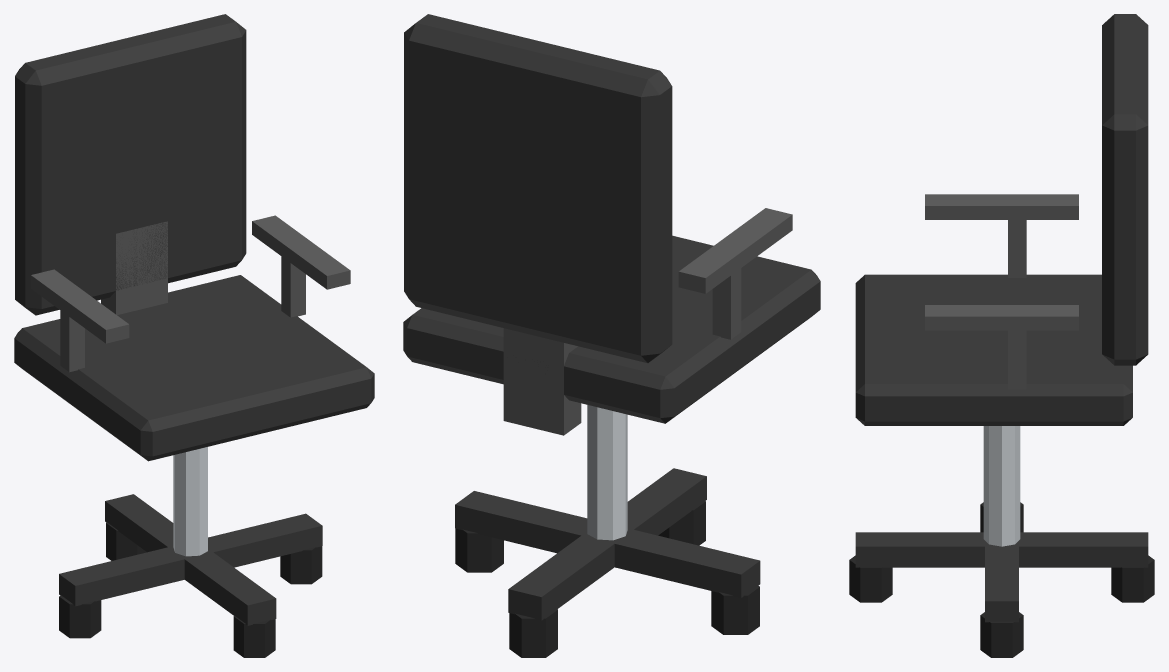
File: FUR_OfficeChair_Frac.fbx
3 views of the same model, side by side, from view 1: azimuth 30°, elevation 25°; view 2: azimuth 150°, elevation 25°; view 3: azimuth 270°, elevation 25° (orthographic). The views are drawn at different scales.
Visible parts, largest first — view 1: FUR_OfficeChair_Frac_1, FUR_OfficeChair_Frac_2, FUR_OfficeChair_Frac_4, FUR_OfficeChair_Frac_3; view 2: FUR_OfficeChair_Frac_1, FUR_OfficeChair_Frac_2, FUR_OfficeChair_Frac_3, FUR_OfficeChair_Frac_4; view 3: FUR_OfficeChair_Frac_1, FUR_OfficeChair_Frac_4, FUR_OfficeChair_Frac_3, FUR_OfficeChair_Frac_2.
Part boxes in pixels (<box>): FUR_OfficeChair_Frac_1: <box>31,14,350,348</box>; FUR_OfficeChair_Frac_2: <box>14,61,234,461</box>; FUR_OfficeChair_Frac_4: <box>161,324,374,584</box>; FUR_OfficeChair_Frac_3: <box>59,439,276,657</box>; FUR_OfficeChair_Frac_1: <box>403,14,655,427</box>; FUR_OfficeChair_Frac_2: <box>530,69,820,435</box>; FUR_OfficeChair_Frac_3: <box>508,407,760,657</box>; FUR_OfficeChair_Frac_4: <box>455,235,713,572</box>; FUR_OfficeChair_Frac_1: <box>925,16,1148,425</box>; FUR_OfficeChair_Frac_4: <box>855,311,1028,657</box>; FUR_OfficeChair_Frac_3: <box>849,426,1154,602</box>; FUR_OfficeChair_Frac_2: <box>855,14,1148,319</box>.
Size of the model in its own units: 1.94 by 3.8 by 1.98.
